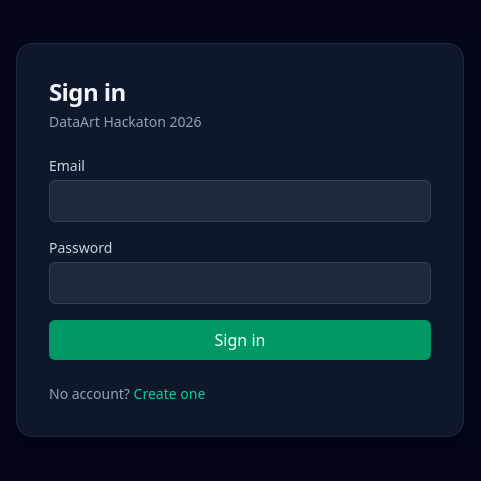
Test: LoginPage › shows inline error on invalid credentials (401)
The width and height of the screenshot is (481, 481).
Type "alice@example.com" into the field labelled "Email" at point(240, 201), box [49, 180, 431, 222]
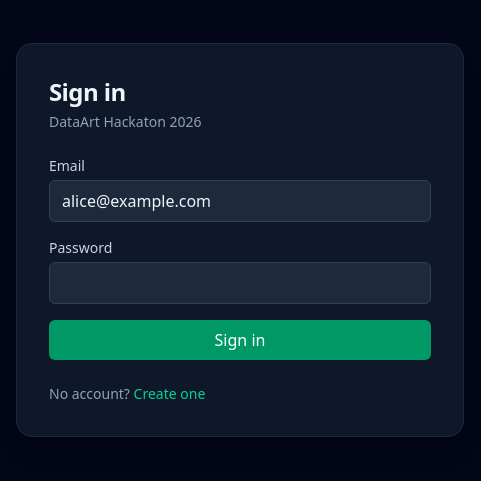
Type "WrongPass1" into the password field labelled "Password" at point(240, 283), box [49, 262, 431, 304]
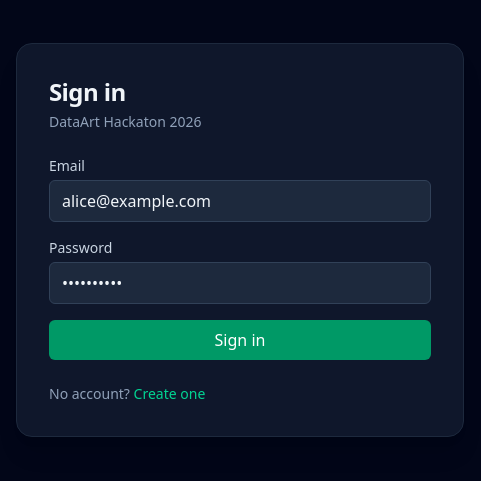
Click the button "Sign in" at point(240, 340), box [49, 320, 431, 360]
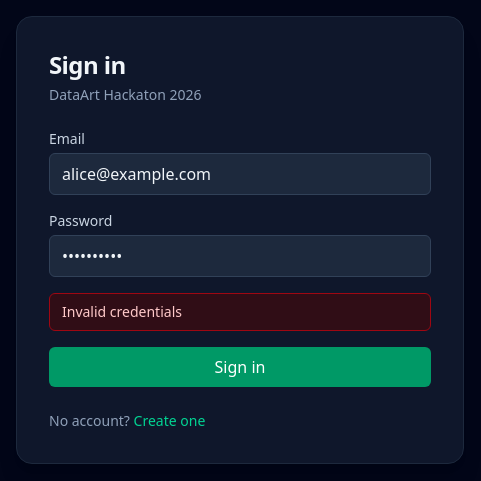
Expected: the message with test id "login-error" reads "Invalid credentials", [62, 302, 182, 321]
